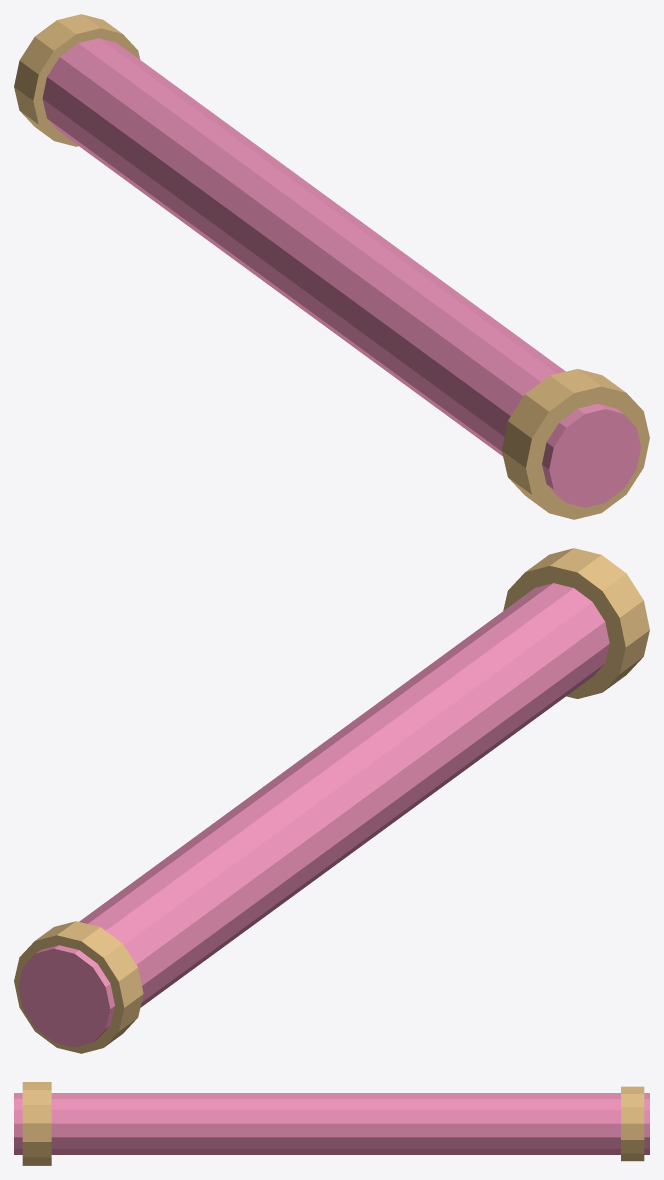
Rendered from LongBarrel.obj.
The picture shows the model from 3 angles, top to bottom: view 1: azimuth 30°, elevation 25°; view 2: azimuth 150°, elevation 25°; view 3: azimuth 270°, elevation 25°; orthographic projection. The views are drawn at different scales.
Visible parts, largest first — view 1: LongBarrel_Body, LongBarrel_Detail; view 2: LongBarrel_Body, LongBarrel_Detail; view 3: LongBarrel_Body, LongBarrel_Detail.
Boxes of the visible parts, x1,y1,x2,y2 form: LongBarrel_Body: (42, 38, 640, 507); LongBarrel_Detail: (14, 14, 649, 519); LongBarrel_Body: (18, 583, 609, 1047); LongBarrel_Detail: (14, 548, 649, 1053); LongBarrel_Body: (14, 1093, 649, 1154); LongBarrel_Detail: (22, 1082, 644, 1165).
Bounding box in the file's own units: 0.1485 × 0.1448 × 1.1.
